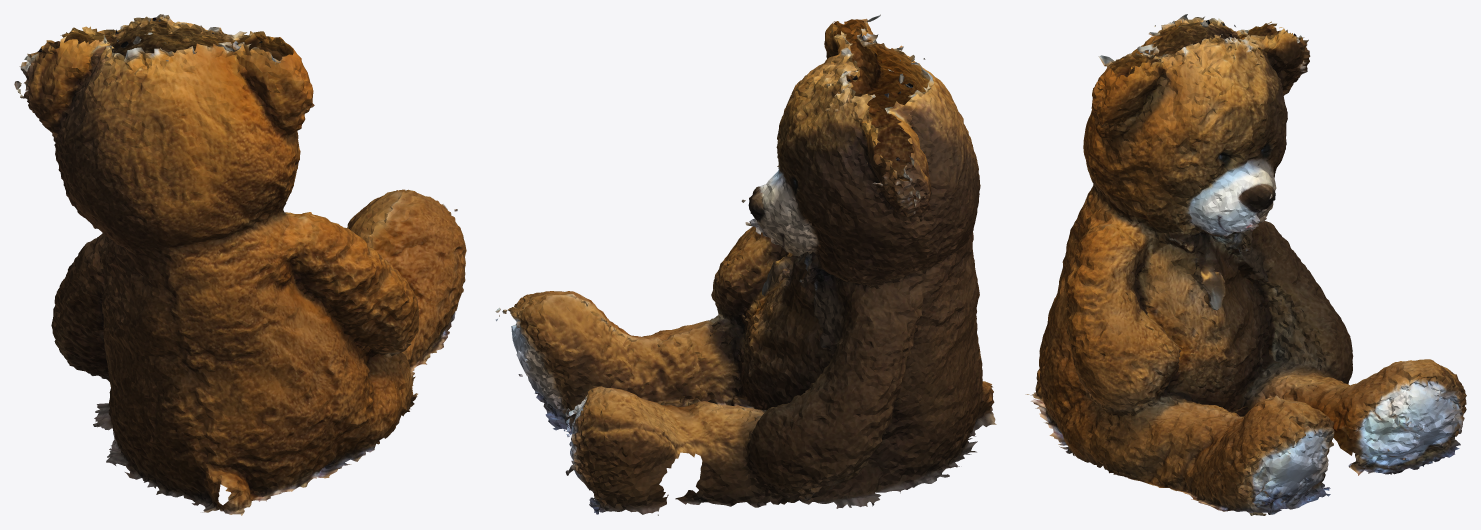
Rendered from teddy.fbx.
The picture shows the model from 3 angles, left to right: view 1: azimuth 30°, elevation 25°; view 2: azimuth 150°, elevation 25°; view 3: azimuth 270°, elevation 25°; orthographic projection. The views are drawn at different scales.
Visible parts, largest first — view 1: teddy; view 2: teddy; view 3: teddy.
Boxes of the visible parts, <box> form: teddy: <box>14,14,466,515</box>; teddy: <box>495,14,996,515</box>; teddy: <box>1025,14,1466,515</box>.
Size of the model in its own units: 358 by 328 by 345.
